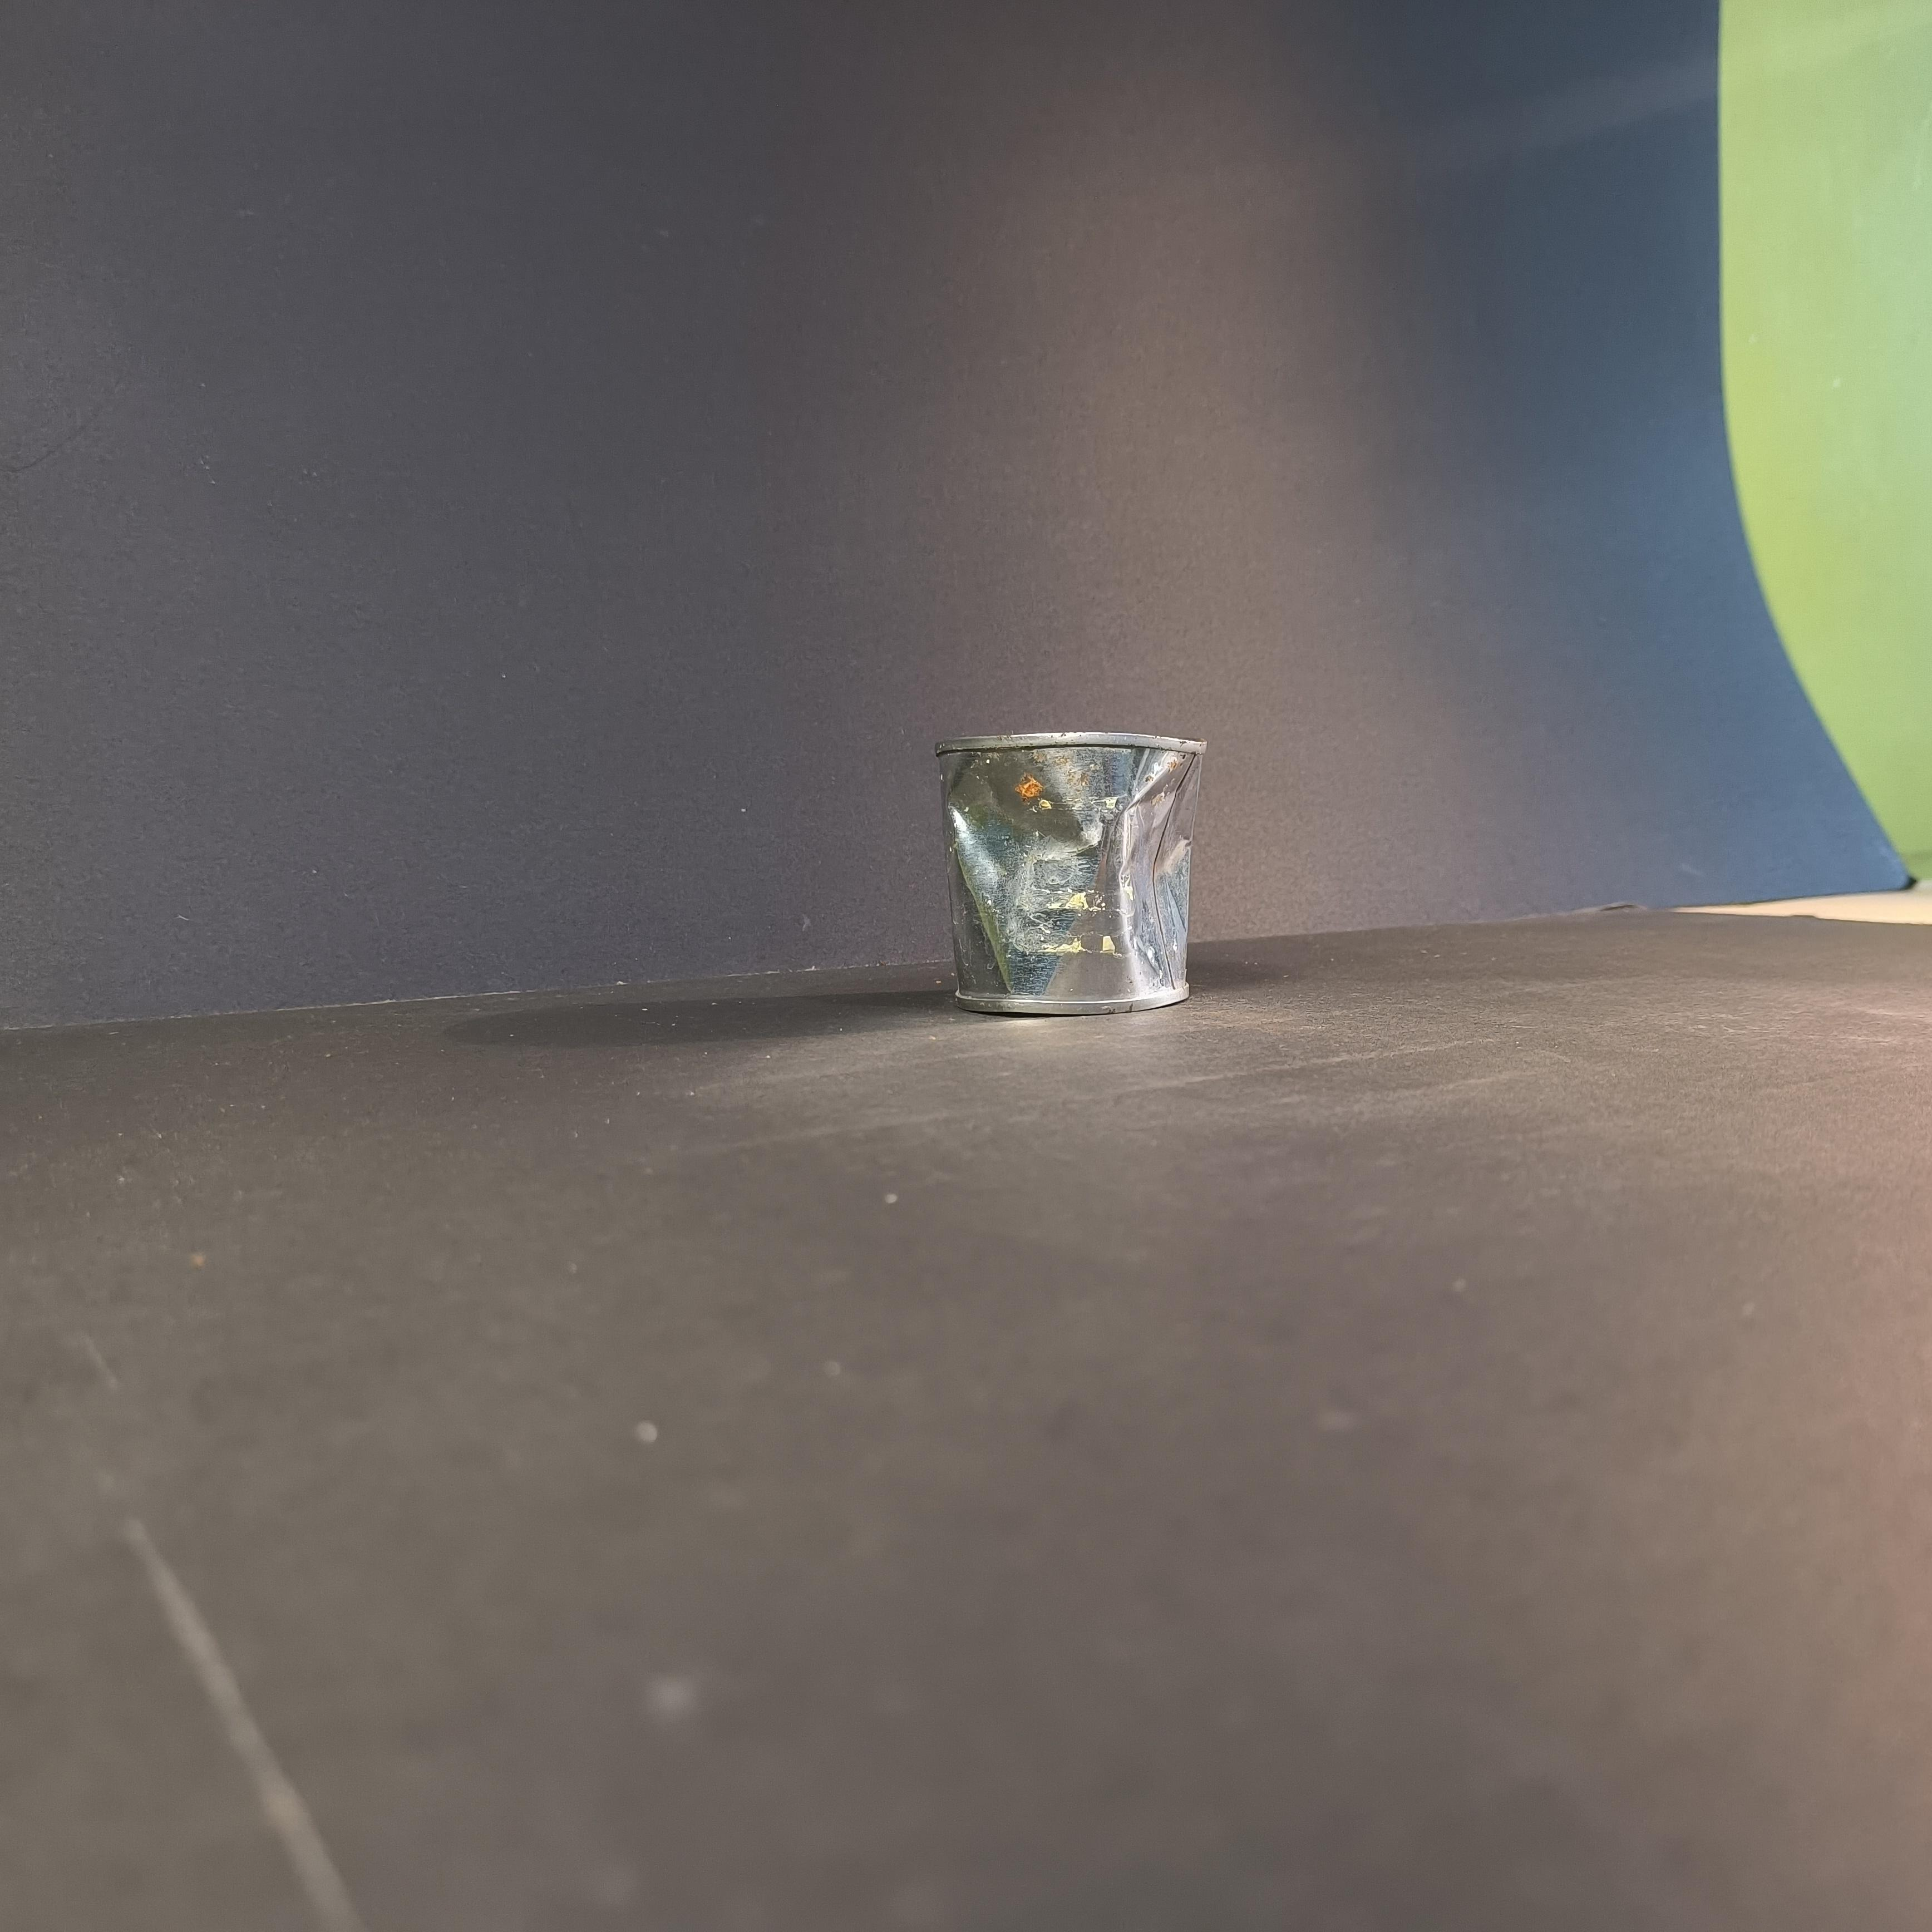Dented: (922, 720, 1230, 1010)
